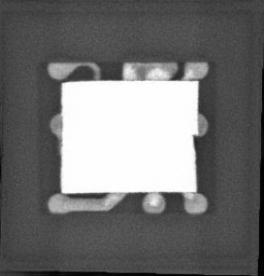DIE_BROKEN: (190, 132, 198, 155)
